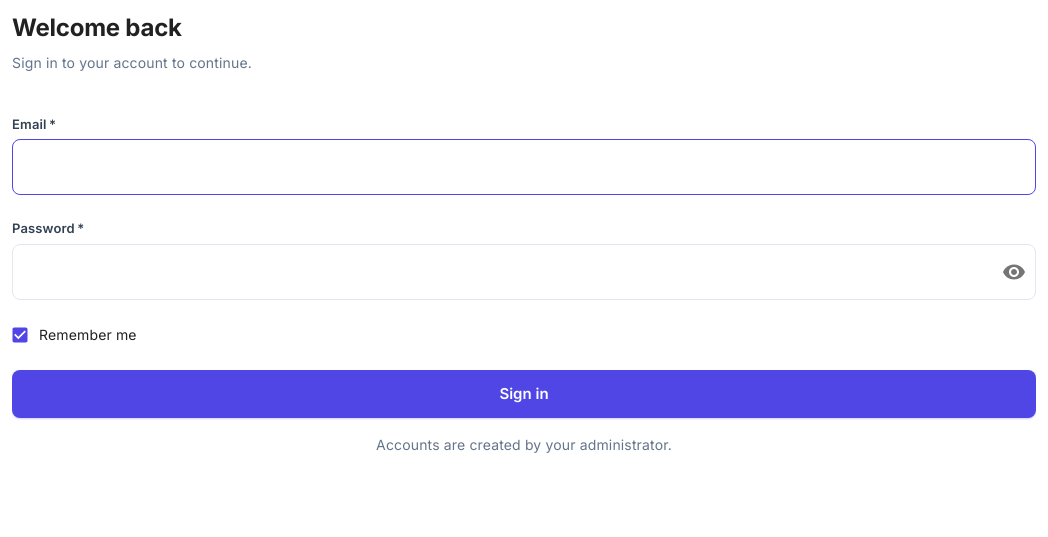
Scenario: LoginPage › shows an error message when login is rejected
Type "admin@crm.test" into the field labelled "Email *" at {"x": 524, "y": 168}, box left=12, top=140, right=1036, bottom=196
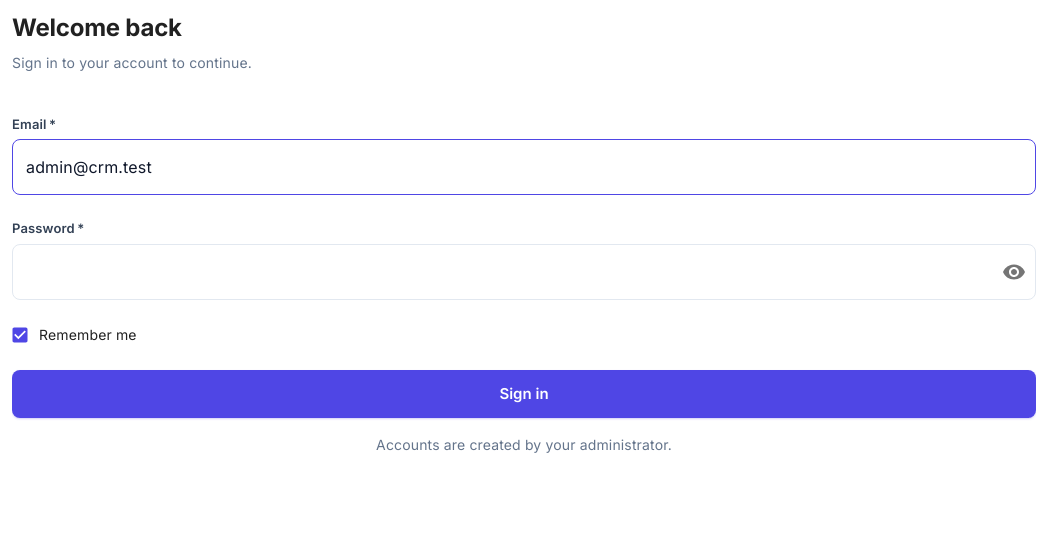
Type "wrong" into the password field labelled "Password *" at {"x": 499, "y": 272}, box left=12, top=244, right=986, bottom=300
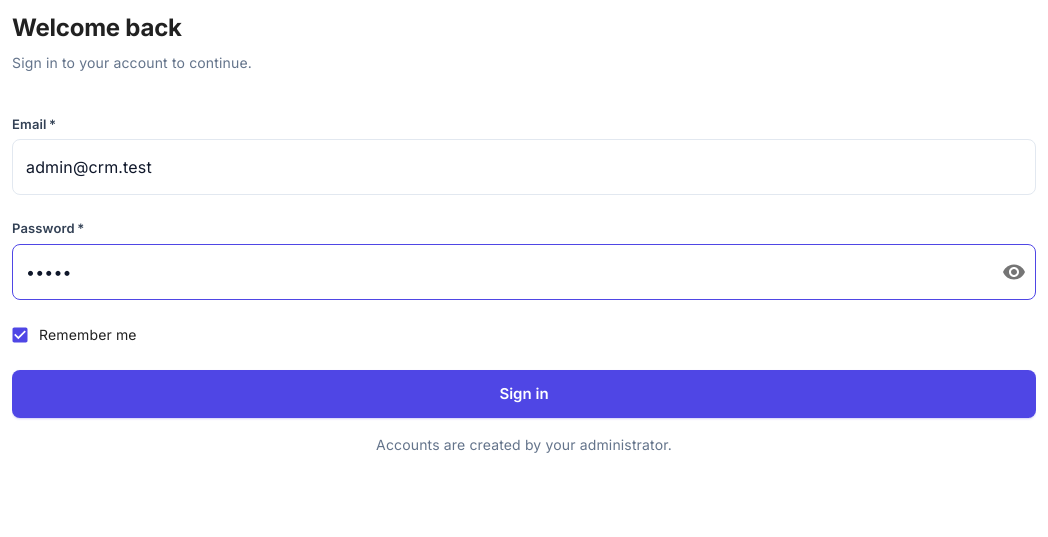
Click the button "Sign in" at {"x": 524, "y": 394}, box left=12, top=370, right=1036, bottom=418
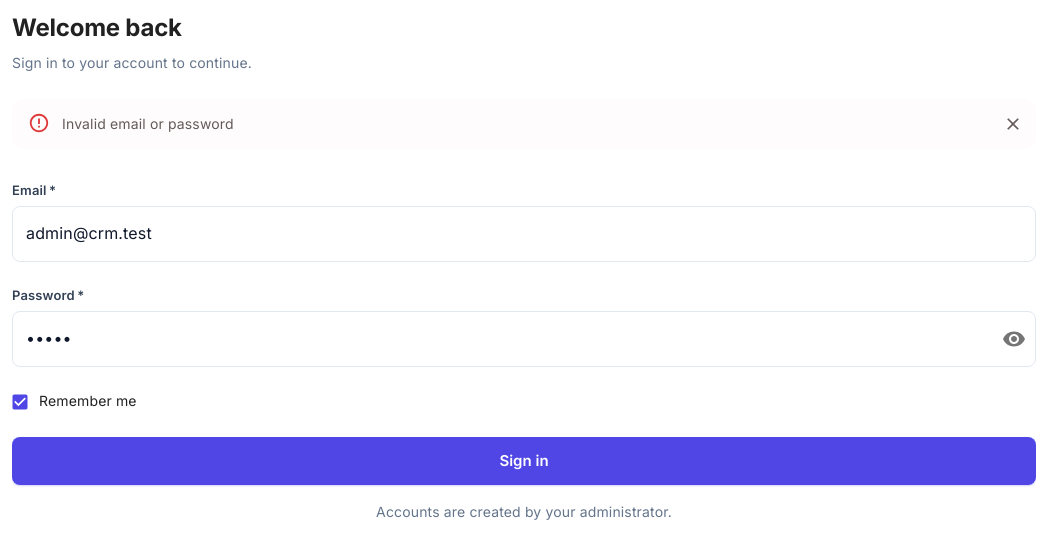
Now the text "Invalid email or password" is shown, box left=62, top=115, right=234, bottom=132
